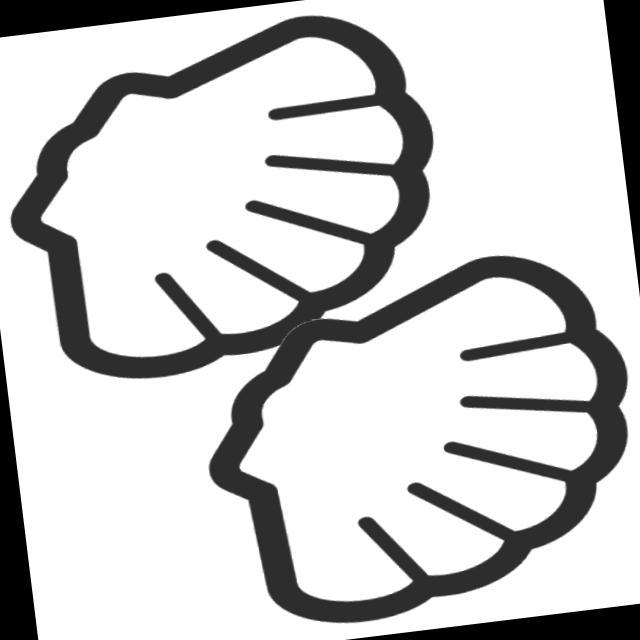shell: (177, 233, 640, 640), (1, 1, 470, 399)
